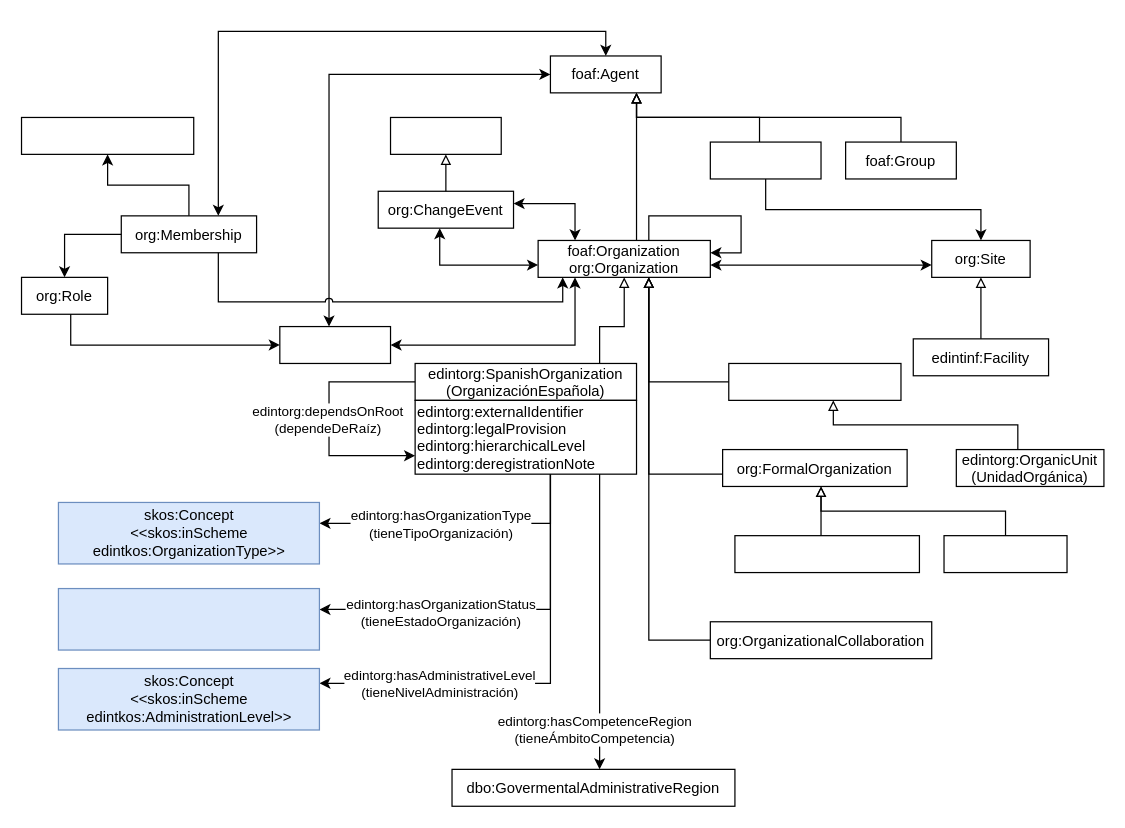
This 1125x828 diagram has some shape labels left out. Here are the shapes that lost their labels. From the top down, the centre of each, then its label:
At (x=107, y=135): "time:Interval".
At (x=445, y=135): "prov:Activity".
At (x=765, y=160): "foaf:Person".
At (x=335, y=344): "org:Post".
At (x=814, y=381): "org:OrganizationaUnit".
At (x=826, y=553): "edintorg:PublicLawEntity (EntidadDerechoPúblico)".
At (x=1005, y=553): "gr:BusinessEntity".
At (x=188, y=618): "skos:Concept <<skos:inScheme edintkos :OrganizationStatus>>".
